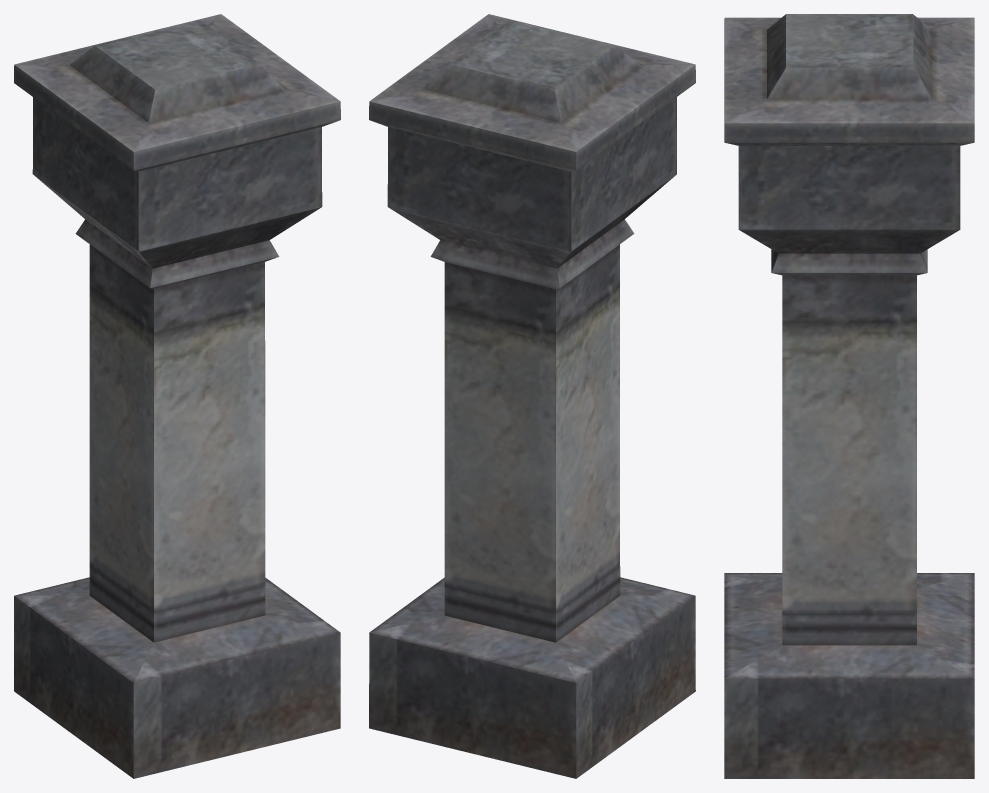
The model's file is bg_lut_lucastle_monument04c_sm_artree.FBX.
3 views of the same model, side by side, from view 1: azimuth 30°, elevation 25°; view 2: azimuth 150°, elevation 25°; view 3: azimuth 270°, elevation 25° (orthographic). The views are drawn at different scales.
Visible parts, largest first — view 1: bg_lut_lucastle_monument04c_sm_artree; view 2: bg_lut_lucastle_monument04c_sm_artree; view 3: bg_lut_lucastle_monument04c_sm_artree.
Boxes of the visible parts, x1,y1,x2,y2 form: bg_lut_lucastle_monument04c_sm_artree: (14, 14, 340, 778); bg_lut_lucastle_monument04c_sm_artree: (369, 14, 695, 778); bg_lut_lucastle_monument04c_sm_artree: (724, 14, 974, 778).
Bounding box in the file's own units: 27.99 × 84.57 × 27.99.
